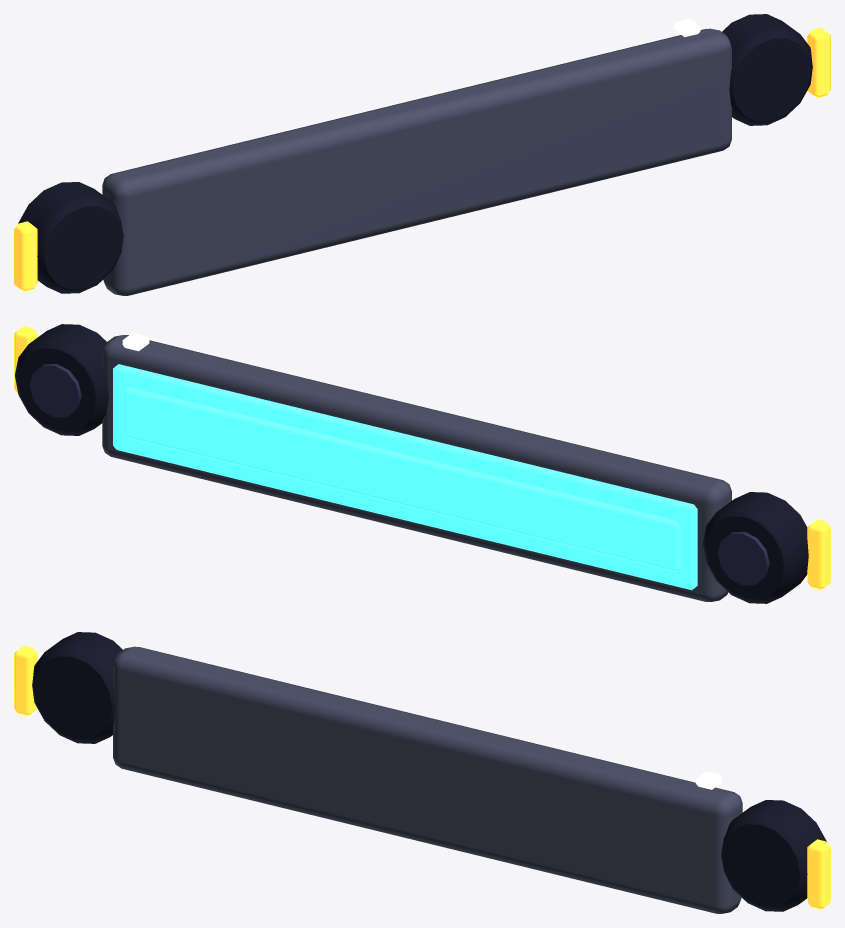
The model's file is prop.props_quarters.cyan_wall_strip.glb.
The picture shows the model from 3 angles, top to bottom: view 1: azimuth 30°, elevation 25°; view 2: azimuth 150°, elevation 25°; view 3: azimuth 330°, elevation 25°; orthographic projection.
Visible parts, largest first — view 1: prop.props_quarters.cyan_wall_strip; view 2: prop.props_quarters.cyan_wall_strip; view 3: prop.props_quarters.cyan_wall_strip.
Part boxes in pixels (x1,y1,x2,y2): prop.props_quarters.cyan_wall_strip: [14, 14, 830, 295]; prop.props_quarters.cyan_wall_strip: [14, 324, 830, 603]; prop.props_quarters.cyan_wall_strip: [14, 632, 830, 913].
Bounding box in the file's own units: 1.31 × 0.195 × 0.082.
